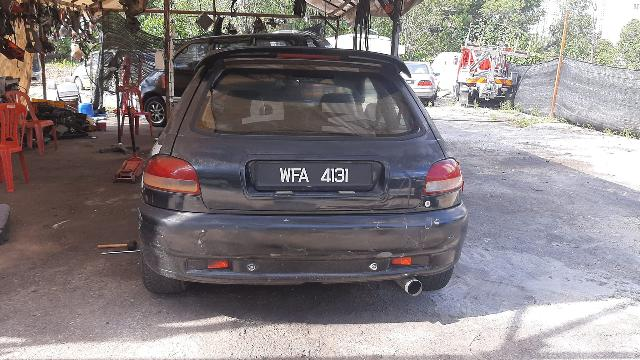License_Plate: (257, 165, 367, 192)
car: (137, 37, 473, 296)
